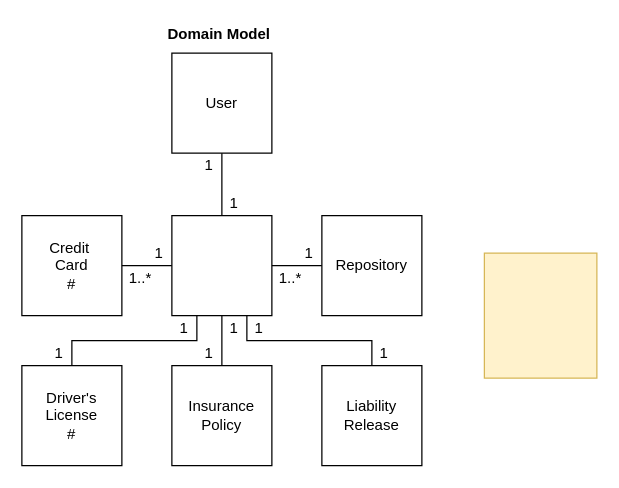
This 619x488 diagram has some shape labels left out. Here are the shapes that lost their labels. From the top down, the box of each, then its label:
(171, 214, 272, 316): Fireball Character
(483, 252, 597, 378): Cardinality 1 2 8 1..5 0..8 * 1..* 0..* *
